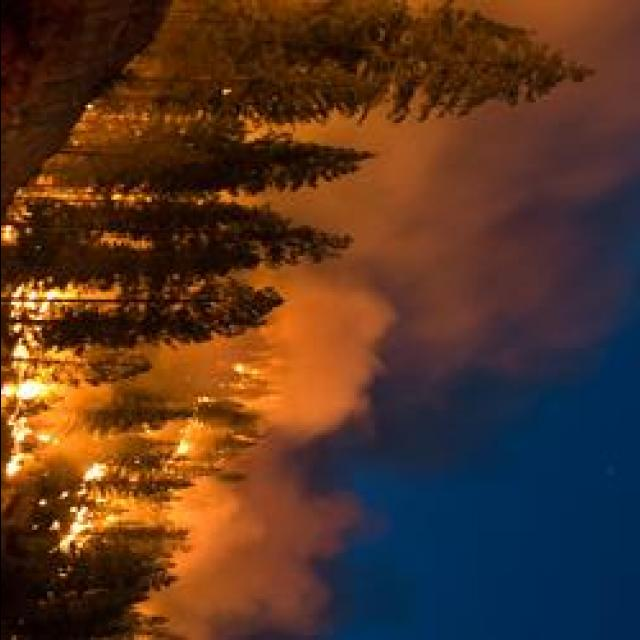smoke: (409, 109, 632, 416), (183, 471, 366, 640), (278, 272, 404, 458)
